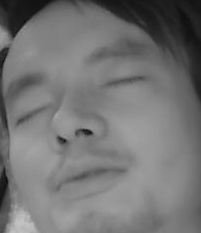blink: (16, 103, 51, 125), (105, 72, 144, 91)
mouth: (49, 151, 124, 201)
